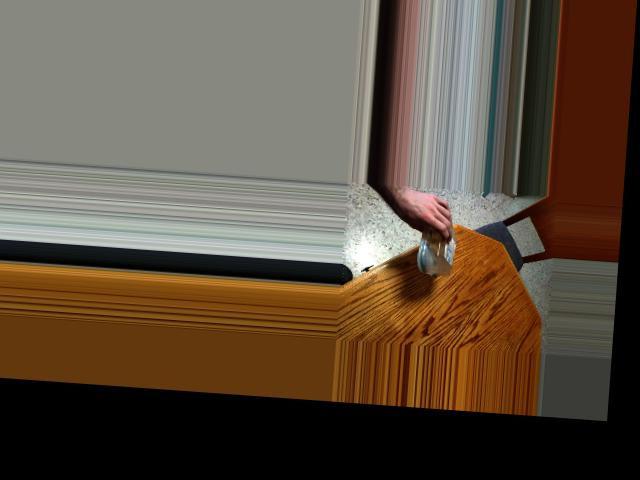cheese: (392, 218, 470, 278)
